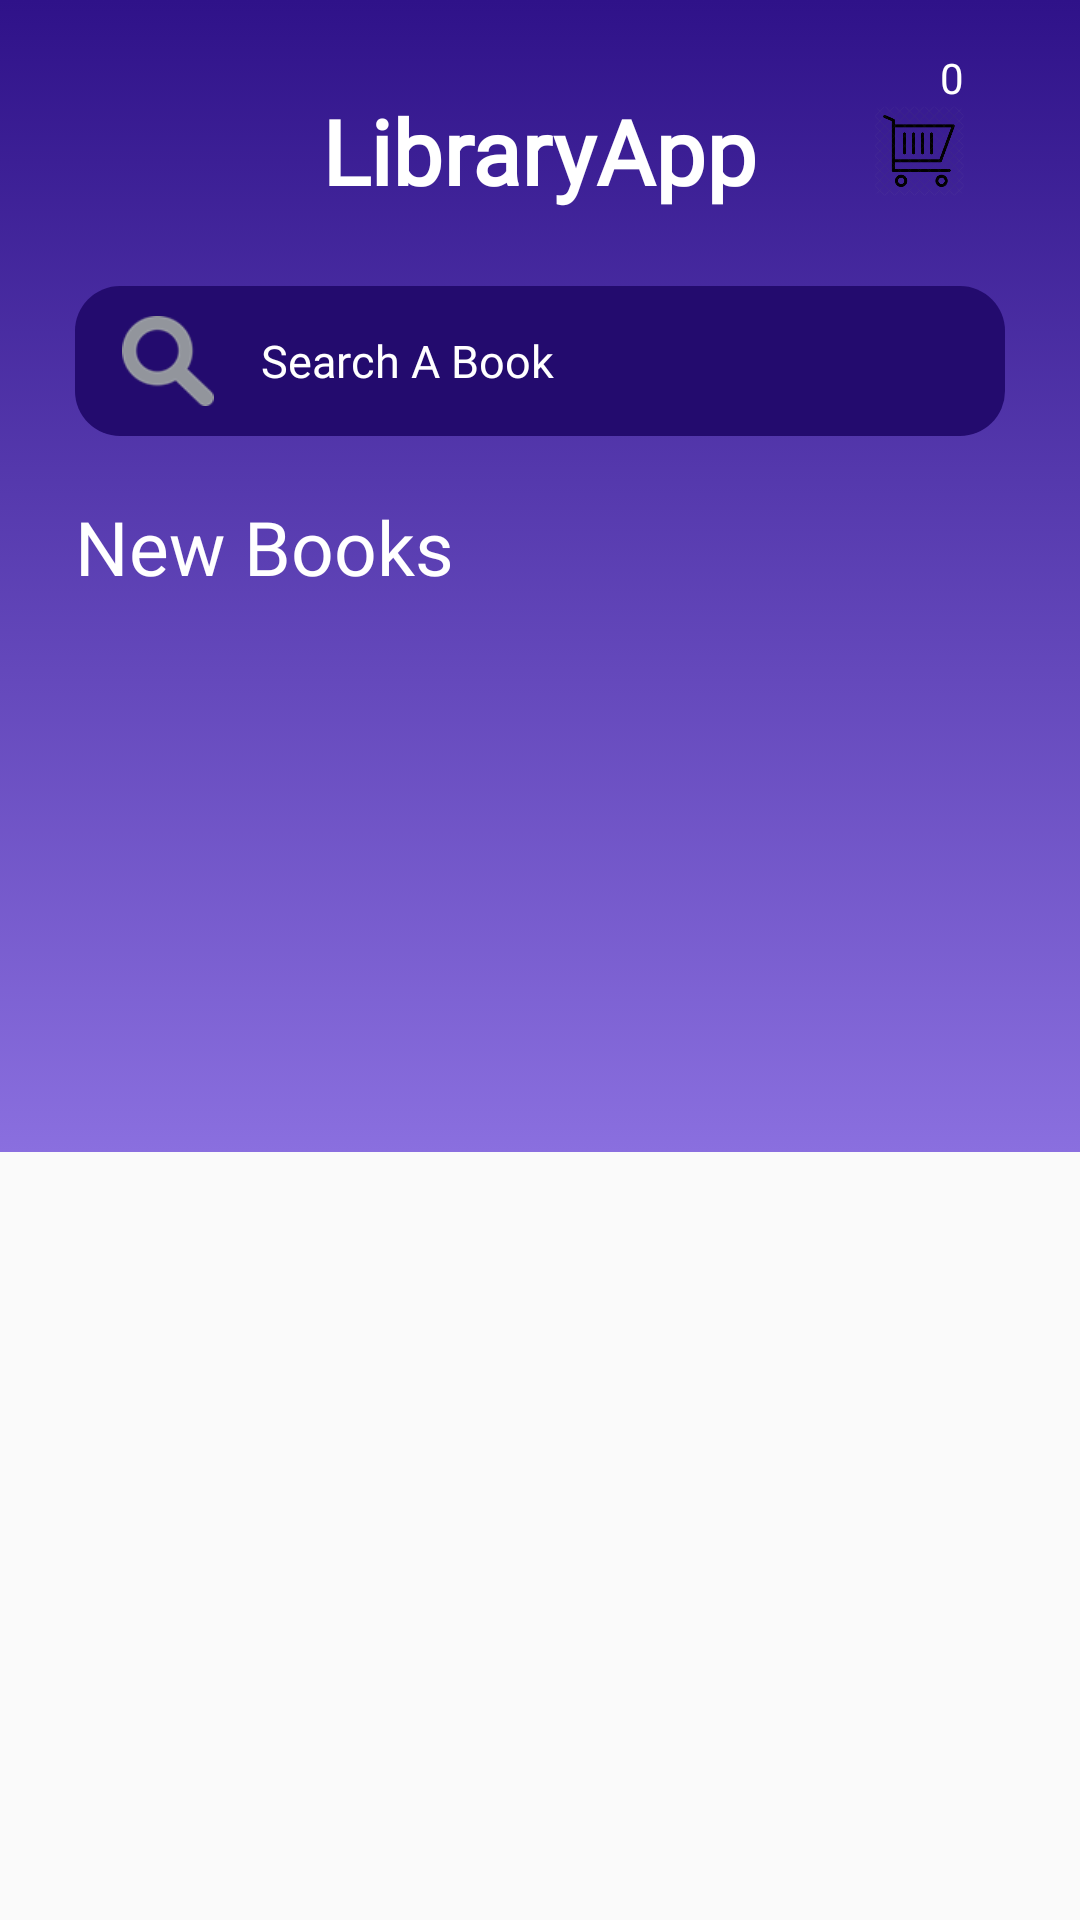

Point at icon controls on the screen. Image size 1080 × 1920, points as (x,y).
cart: (919,151)
